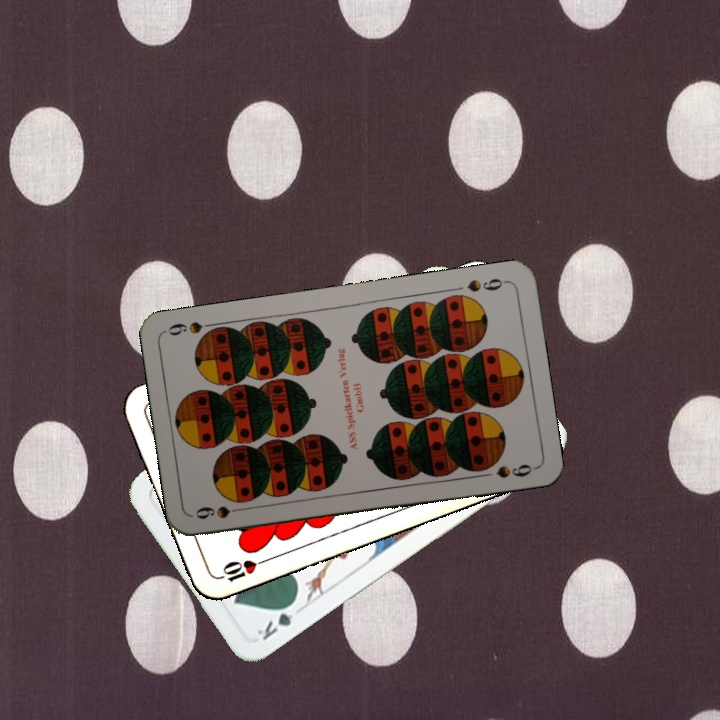GK: (253, 597, 299, 644)
H10: (212, 554, 270, 585)
S9: (192, 502, 250, 522), (463, 274, 510, 295)
